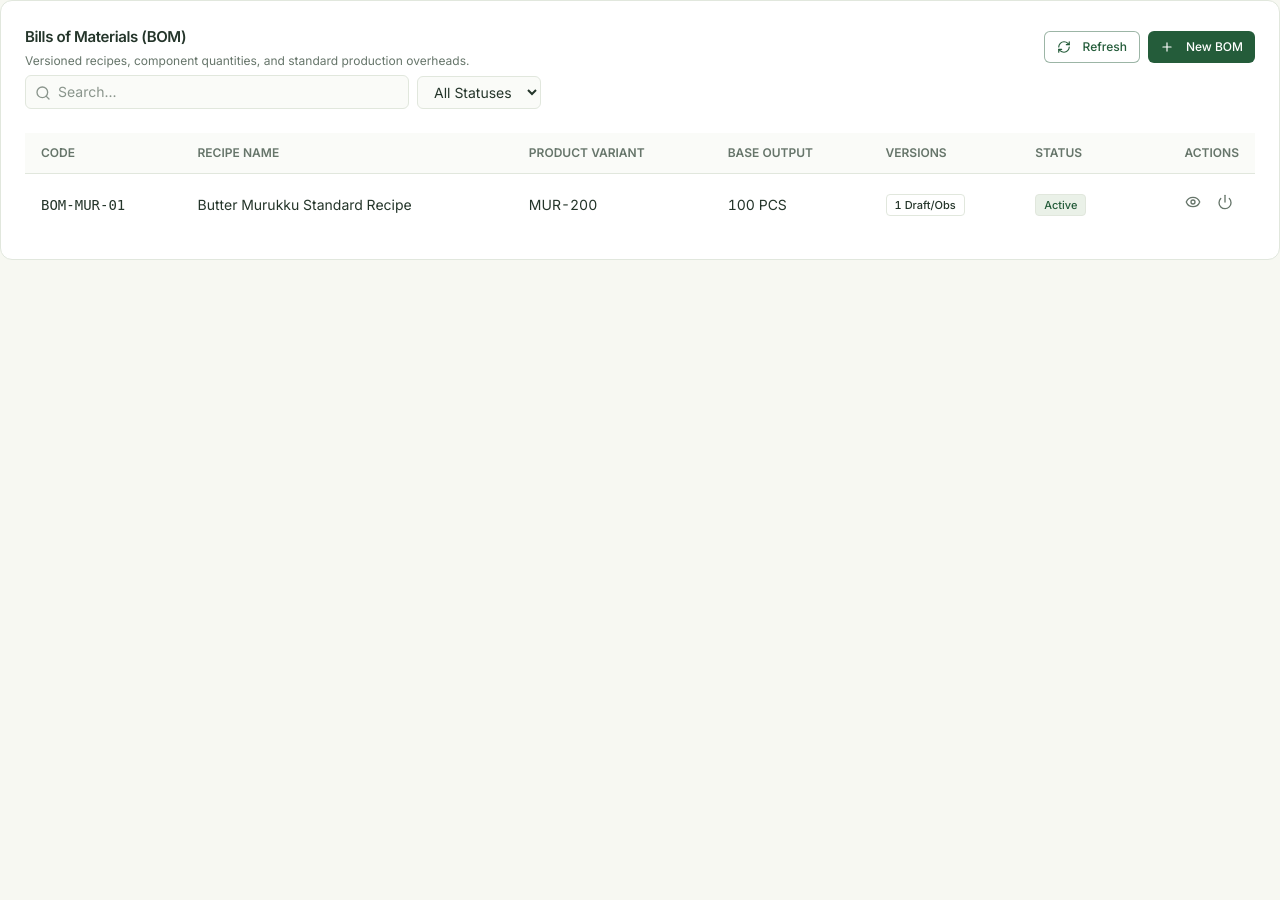
it: Phase 3.1 Frontend BOM & Recipe Suite › 2. BomsPage displays BOM list, yield/wastage, cost estimate, and audit history
Check: the text "BOM-MUR-01" is shown, box left=41, top=196, right=125, bottom=212
Click the button titled "View details".
click(1193, 202)  # box left=1179, top=188, right=1207, bottom=216
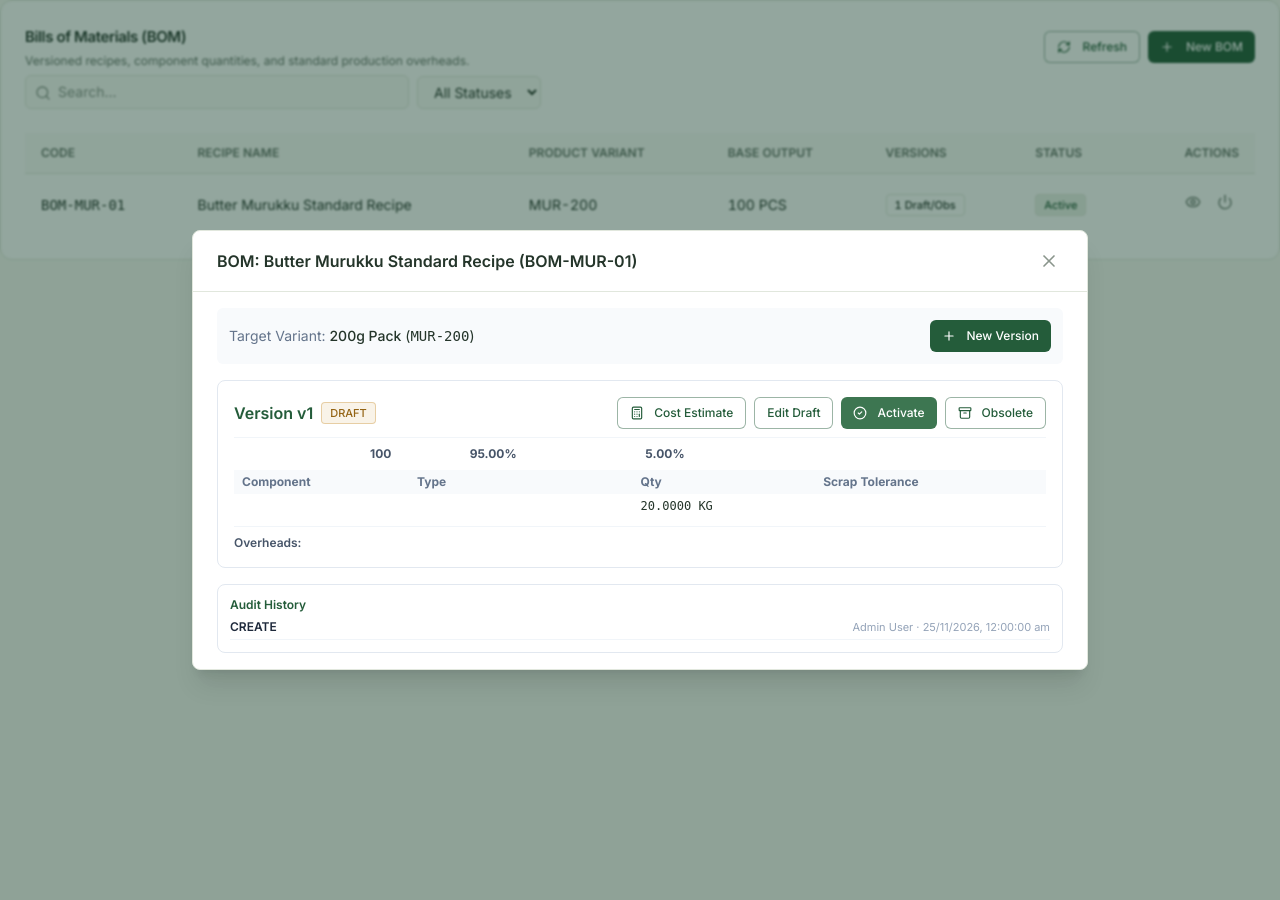
Check: the text "95.00%" is shown, box left=470, top=446, right=517, bottom=461
Check: the text "5.00%" is shown, box left=645, top=446, right=684, bottom=461
Check: the heading "Audit History" is shown, box left=230, top=597, right=306, bottom=612
Click the button "Cost Estimate".
click(682, 413)  # box left=617, top=397, right=746, bottom=429
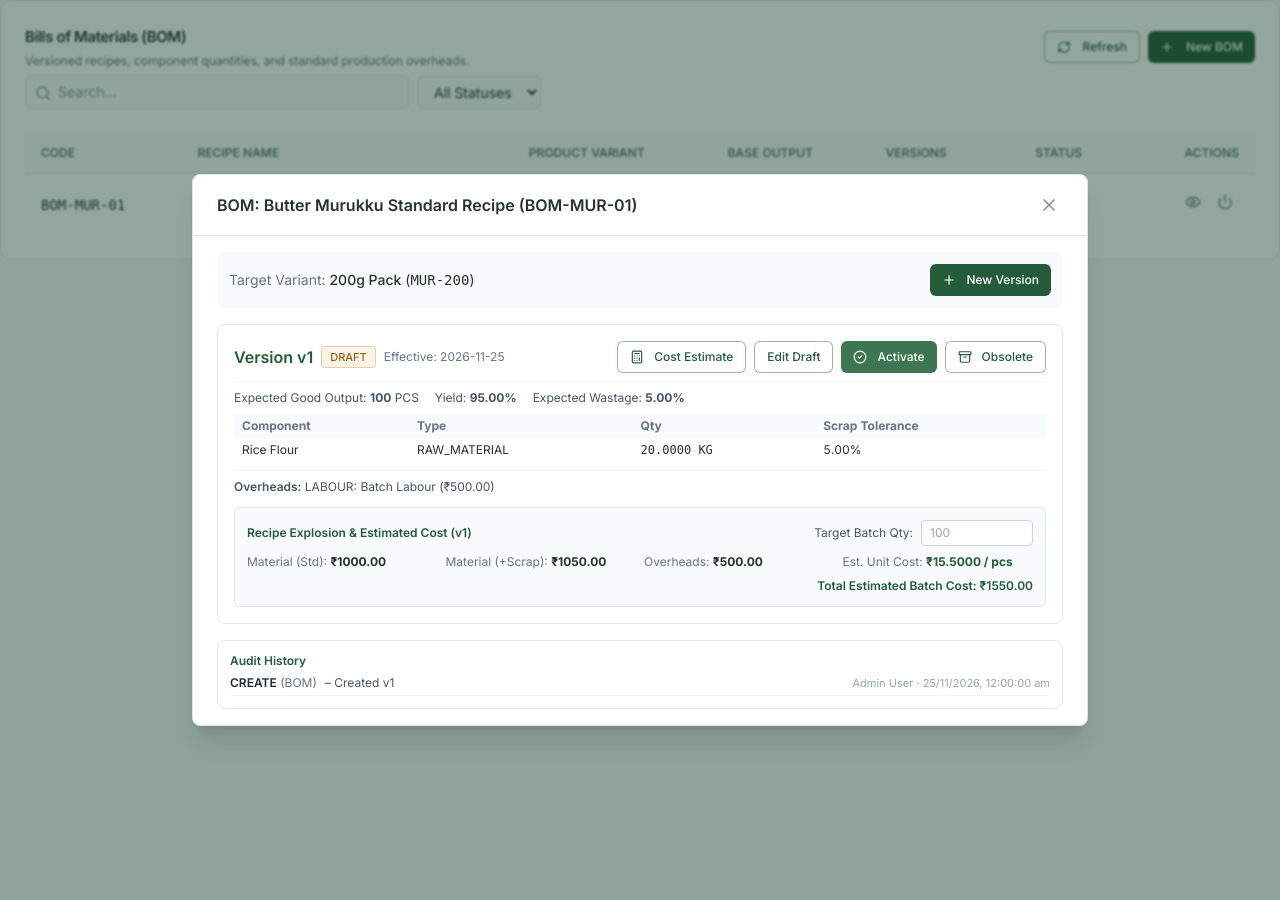
Check: the text "Total Estimated Batch Cost: ₹1550.00" is shown, box left=817, top=578, right=1033, bottom=593
